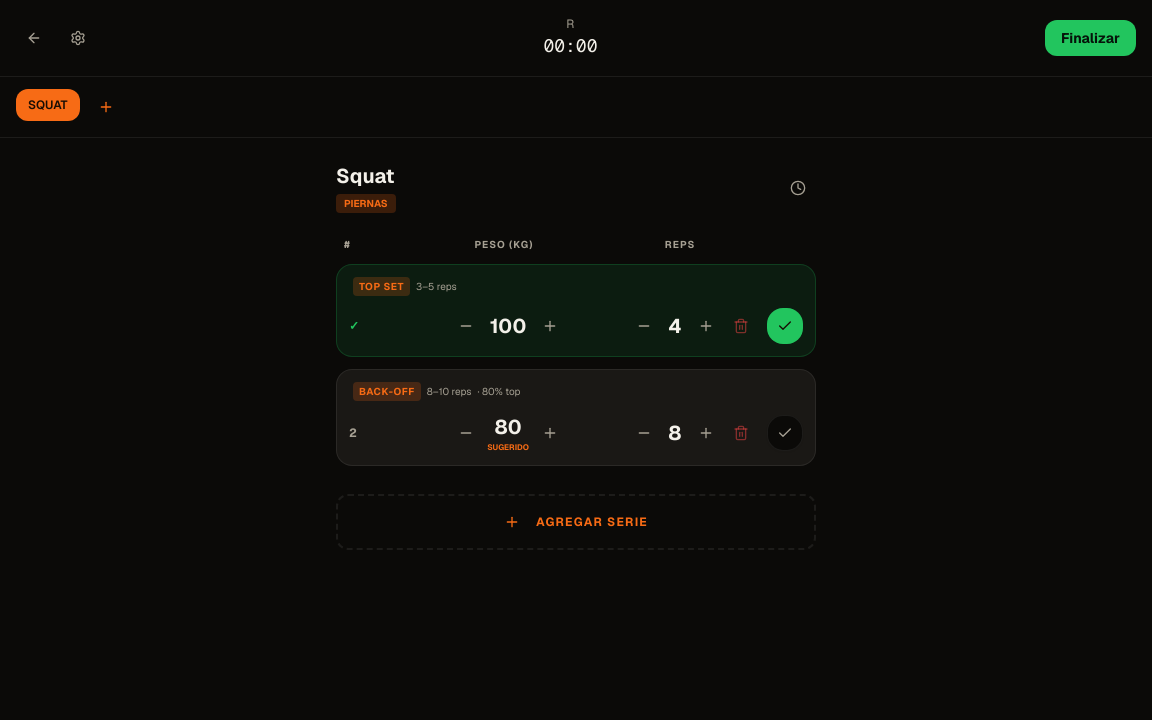
Test: ActiveWorkout methodology › typing a weight sets the absolute value, replacing the suggestion
Replace the text in the number field named "Peso del set" below "Back-off" with "55" at (508, 427), box [482,413,534,441]
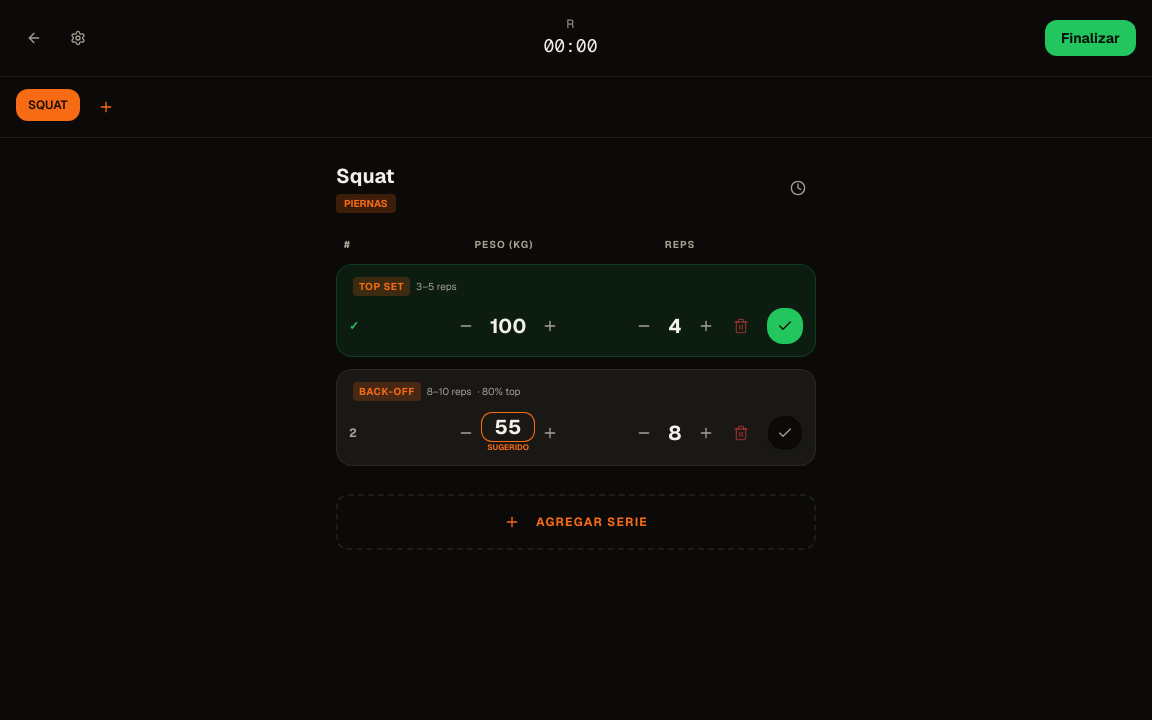
Leave the number field named "Peso del set" below "Back-off", box [482,413,534,441]
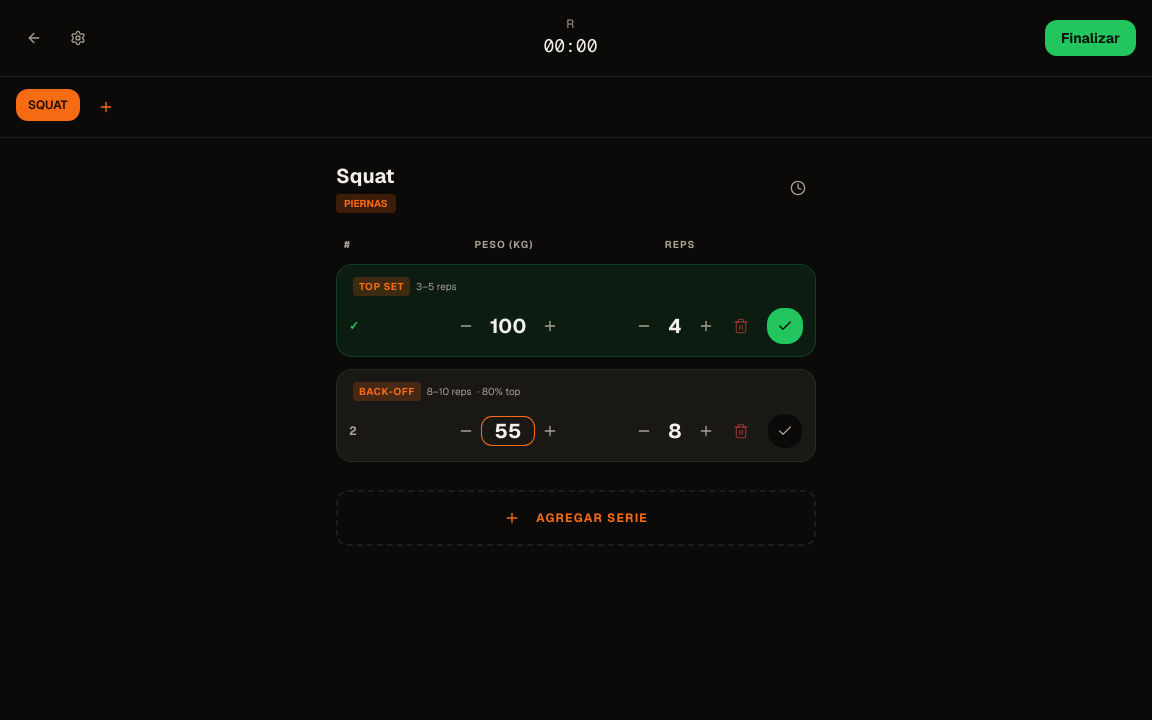
Check: the text "sugerido" is gone
